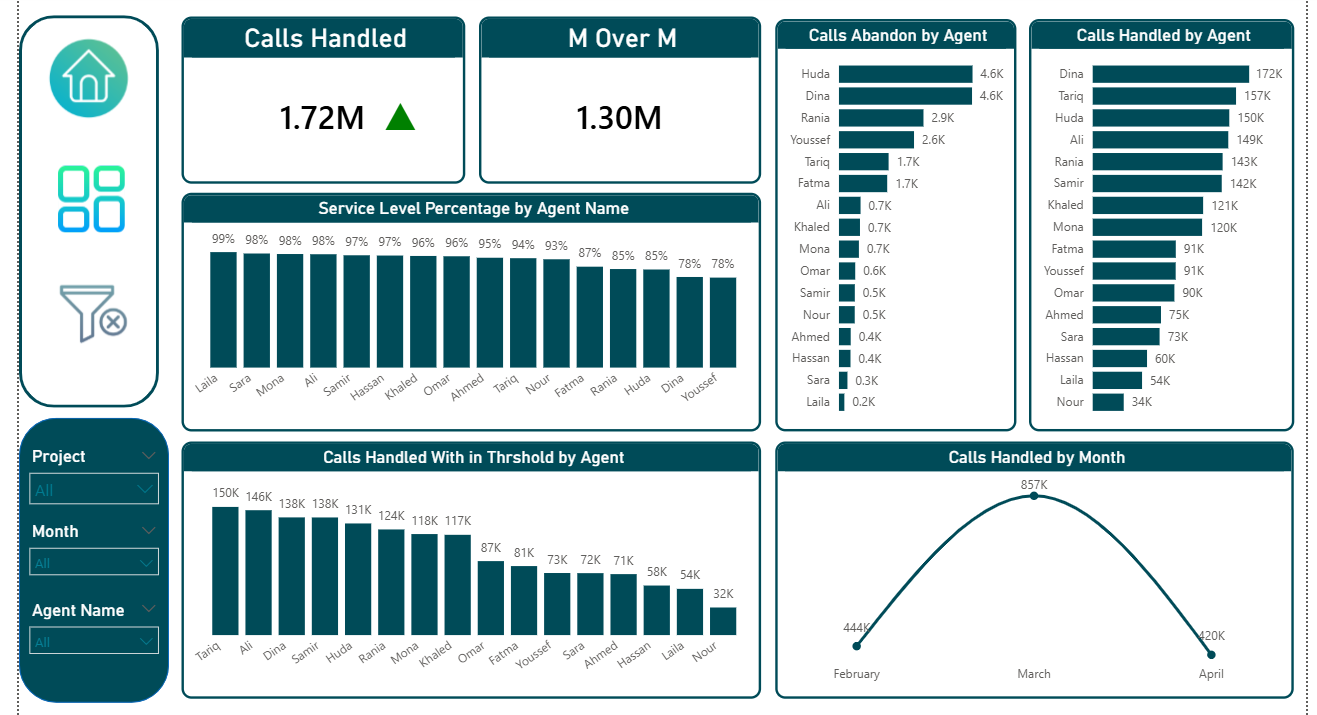

Layout of this report page (visuals, bound fields, positions):
{"tool":"powerbi","page":{"name":"Analysis","canvas":[1280,720],"ordinal":2},"visuals":[{"type":"cardVisual","title":"Calls Handled","fields":{"Data":["Sum(Salla Project.Calls Handled)"]},"box":[161.7,22.4,282.4,166.7],"z":0},{"type":"cardVisual","title":"M Over M","fields":{"Data":["Calender.M Over M Calls Handled"]},"box":[457.8,22.4,281.1,166.7],"z":1000},{"type":"barChart","title":"Calls Handled by Agent","fields":{"Category":["Salla Project.Agent Name"],"Y":["Sum(Salla Project.Calls Handled)"]},"box":[1005.1,24.9,263.7,410.5],"z":2000},{"type":"columnChart","title":"Calls Handled With in Thrshold by Agent","fields":{"Category":["Salla Project.Agent Name"],"Y":["Sum(Salla Project.Calls Handled With in Thrshold)"]},"box":[161.7,445.3,577.2,256.3],"z":3000},{"type":"lineChart","title":"Calls Handled by Month","fields":{"Y":["Sum(Salla Project.Calls Handled)"],"Category":["Calender.Date.Variation.Date Hierarchy.Month"]},"box":[752.6,445.3,516.2,256.3],"z":4000},{"type":"shape","box":[0,21.1,139.3,390.6],"z":5000},{"type":"actionButton","box":[10,37.3,118.2,93.3],"z":6000},{"type":"actionButton","box":[34.8,146.8,74.6,114.4],"z":7000},{"type":"actionButton","box":[19.9,277.4,104.5,82.1],"z":10000},{"type":"shape","box":[0,421.7,149.3,283.6],"z":11000},{"type":"slicer","fields":{"Values":["Salla Project.Project"]},"box":[0,445.3,149.3,84],"z":12000},{"type":"slicer","fields":{"Values":["Calender.Date.Variation.Date Hierarchy.Month"]},"box":[0,520,149.3,78.4],"z":13000},{"type":"slicer","fields":{"Values":["Salla Project.Agent Name"]},"box":[0,598.3,149.3,88.3],"z":14000},{"type":"cardVisual","fields":{"Data":["Calender.Arrow Handled"]},"box":[314.7,65.9,129.4,107],"z":15000},{"type":"columnChart","title":"Service Level Percentage by Agent Name","fields":{"Category":["Salla Project.Agent Name"],"Y":["Salla Project.Service Level"]},"box":[161.7,197.8,577.2,237.6],"z":16000},{"type":"barChart","title":"Calls Abandon by Agent","fields":{"Y":["Sum(Salla Project.Calls Abandon)"],"Category":["Salla Project.Agent Name"]},"box":[752.6,24.9,240.1,410.5],"z":17000}]}

Visuals, with their boxes in screenshot pixels (x1, y1, x2, y2):
"Calls Handled" cardVisual: <region>178, 9, 464, 178</region>
"M Over M" cardVisual: <region>477, 9, 762, 178</region>
"Calls Handled by Agent" barChart: <region>1032, 12, 1299, 427</region>
"Calls Handled With in Thrshold by Agent" columnChart: <region>178, 437, 762, 697</region>
"Calls Handled by Month" lineChart: <region>776, 437, 1299, 697</region>
shape: <region>14, 8, 155, 403</region>
actionButton: <region>24, 24, 144, 119</region>
actionButton: <region>49, 135, 125, 251</region>
actionButton: <region>34, 267, 140, 350</region>
shape: <region>14, 413, 165, 701</region>
slicer - Salla Project.Project: <region>14, 437, 165, 522</region>
slicer - Calender.Date.Variation.Date Hierarchy.Month: <region>14, 513, 165, 592</region>
slicer - Salla Project.Agent Name: <region>14, 592, 165, 682</region>
cardVisual - Calender.Arrow Handled: <region>333, 53, 464, 161</region>
"Service Level Percentage by Agent Name" columnChart: <region>178, 187, 762, 427</region>
"Calls Abandon by Agent" barChart: <region>776, 12, 1019, 427</region>
